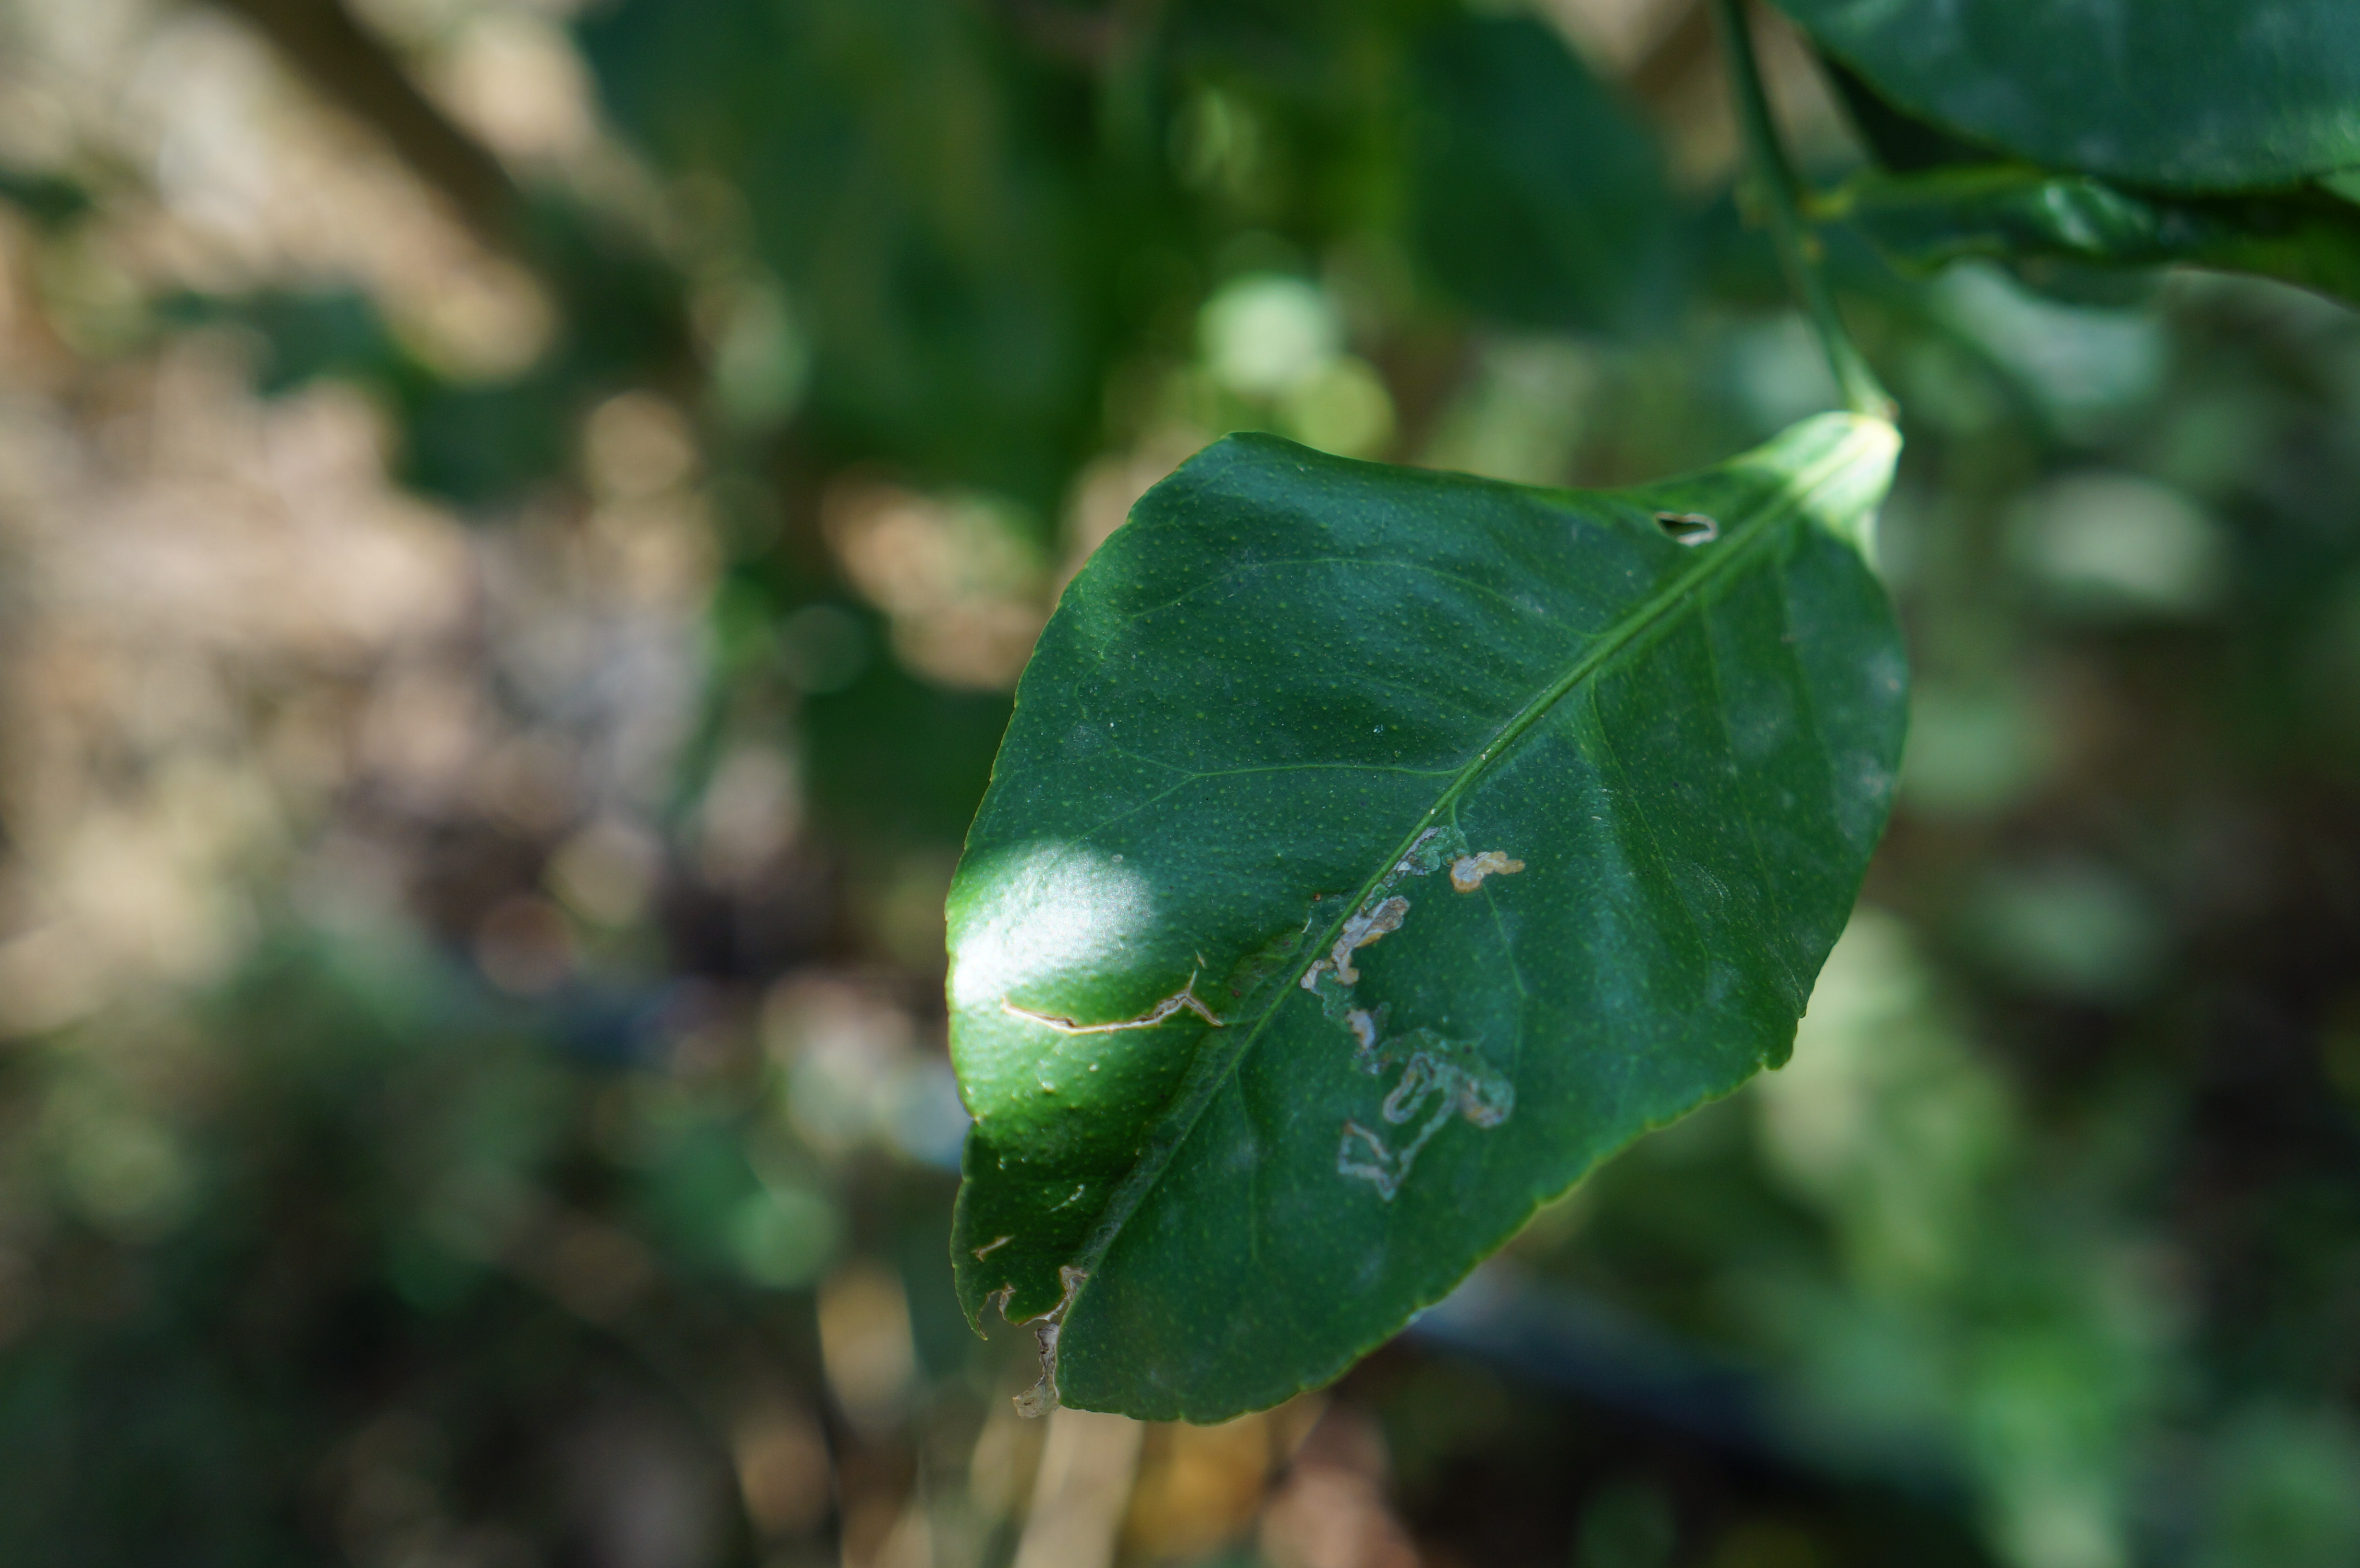damage: (1302, 814, 1543, 1207)
